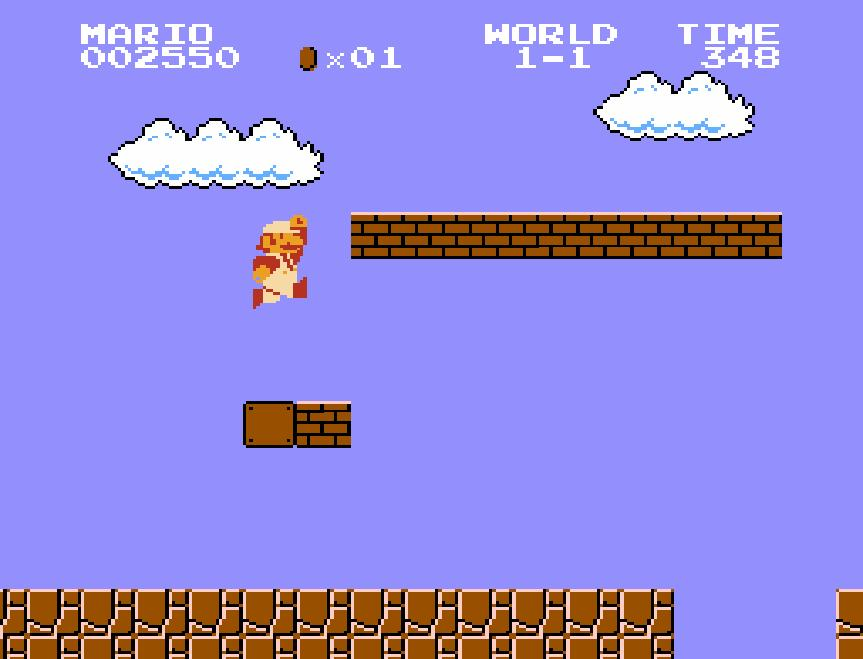fire_mario: (250, 212, 308, 310)
